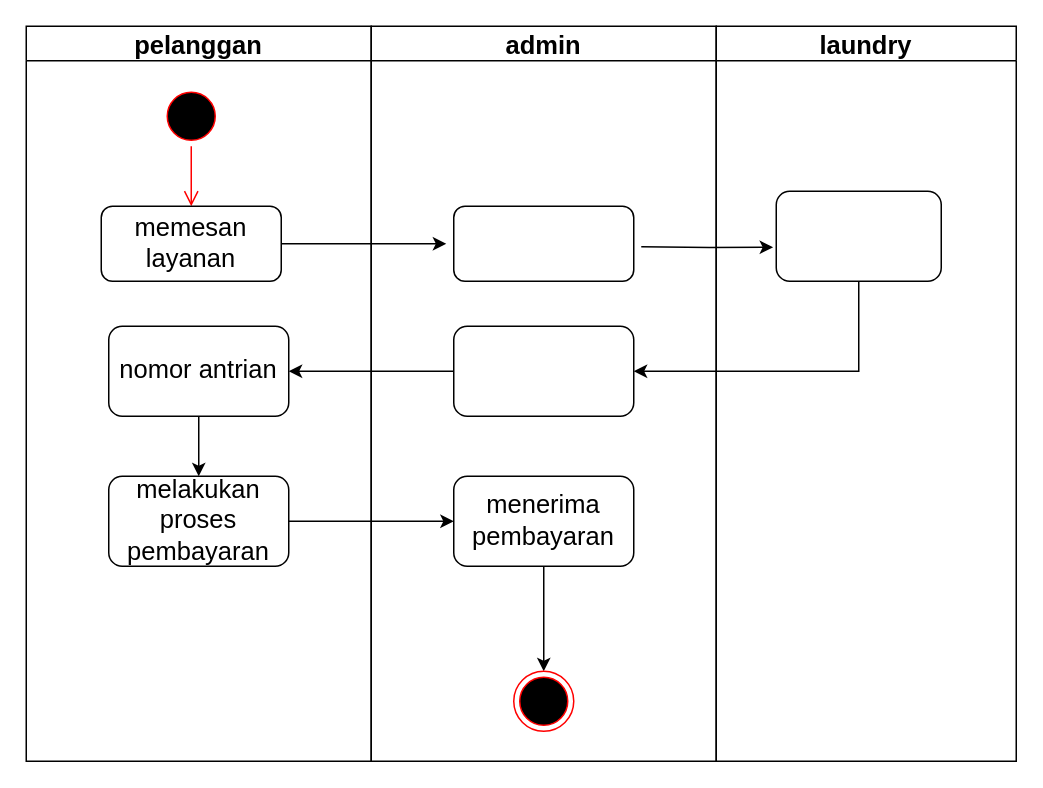
Some shapes in this 1043 by 788 pixel diagram are drawn without their labels. Here are the shapes that lost their labels. From the top down, the centre of each, then its label:
the point at 543,243: mencatat data pelanggan
the point at 858,235: menerima pemesanan layanan
the point at 543,370: data pemesanan layanan
